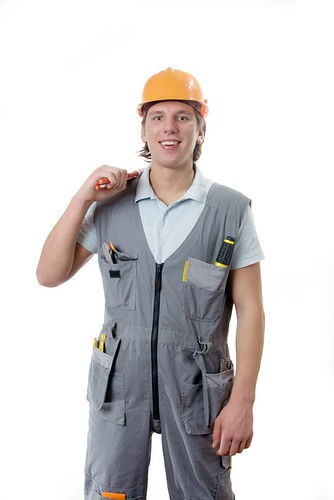person hardhat: (33, 65, 259, 500)
